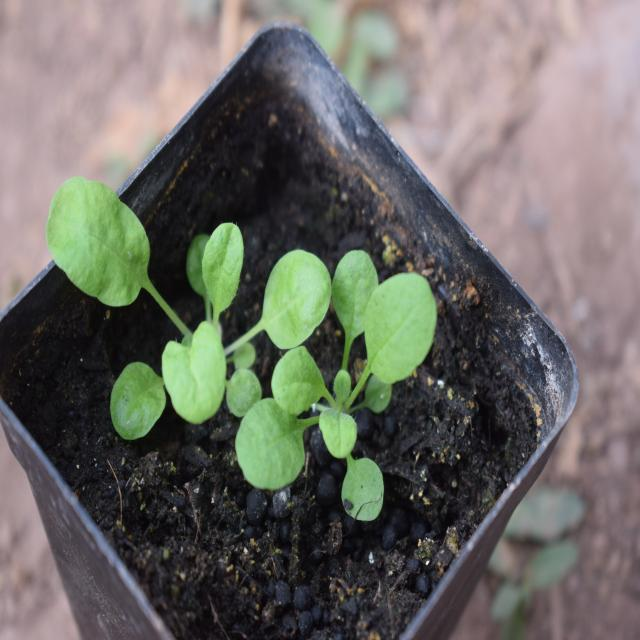Shepherd_Purse: (25, 150, 239, 436), (253, 247, 447, 488)
